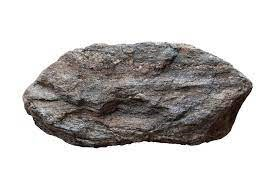rock: (21, 41, 251, 147)
